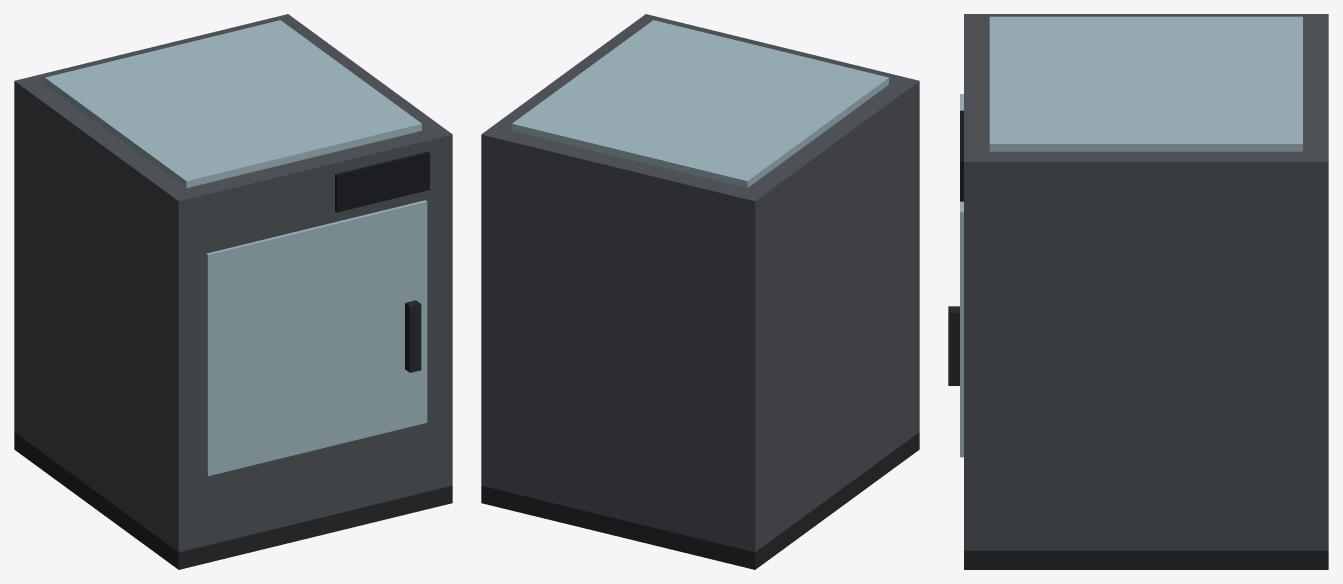
Rendered from printer_large.glb.
3 renders of one model, left to right at view 1: azimuth 30°, elevation 25°; view 2: azimuth 150°, elevation 25°; view 3: azimuth 270°, elevation 25°, orthographic. The views are drawn at different scales.
Visible parts, largest first — view 1: printer_large; view 2: printer_large; view 3: printer_large.
Boxes of the visible parts, x1,y1,x2,y2 form: printer_large: (14, 14, 452, 569); printer_large: (481, 14, 919, 569); printer_large: (948, 14, 1328, 569).
Size of the model in its own units: 0.49 by 0.642 by 0.532.
